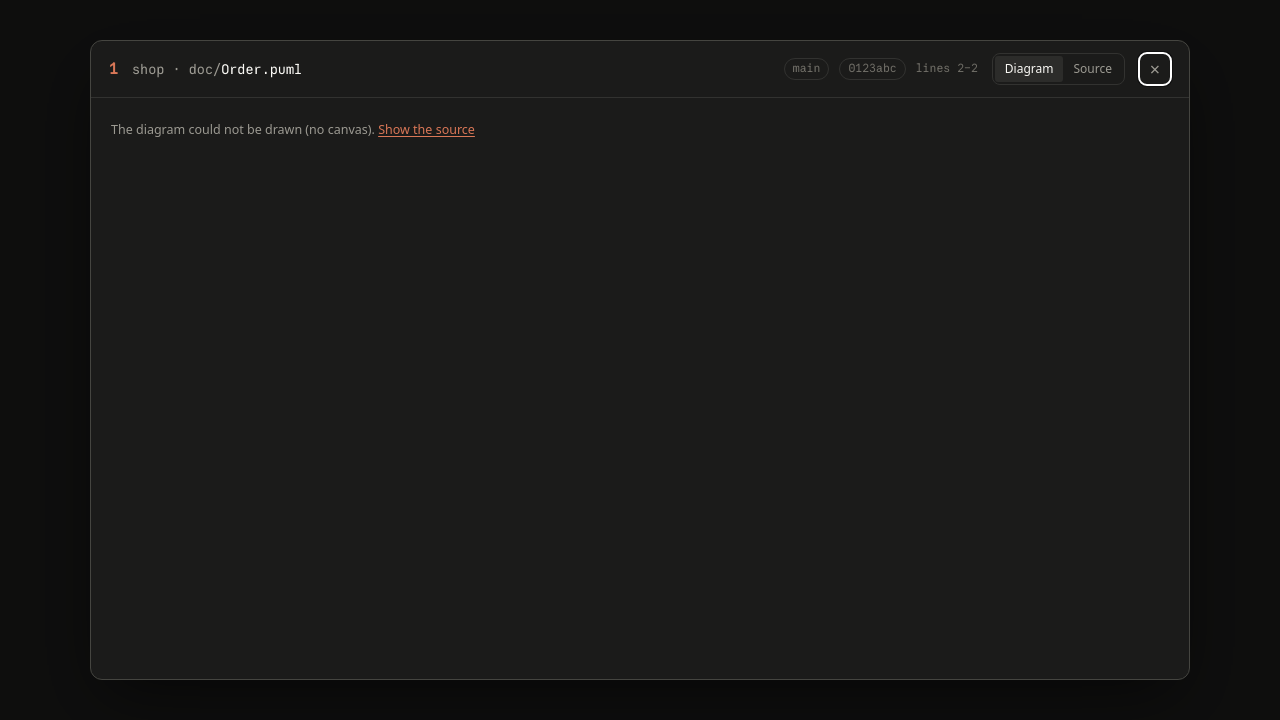
Test: SourceView on a PlantUML file › offers the source when the engine fails
The image size is (1280, 720).
expect the message shows "no canvas": met, box [309,121,368,138]
Click the button "Show the source". click: (426, 130)
box: [378,120,475,139]
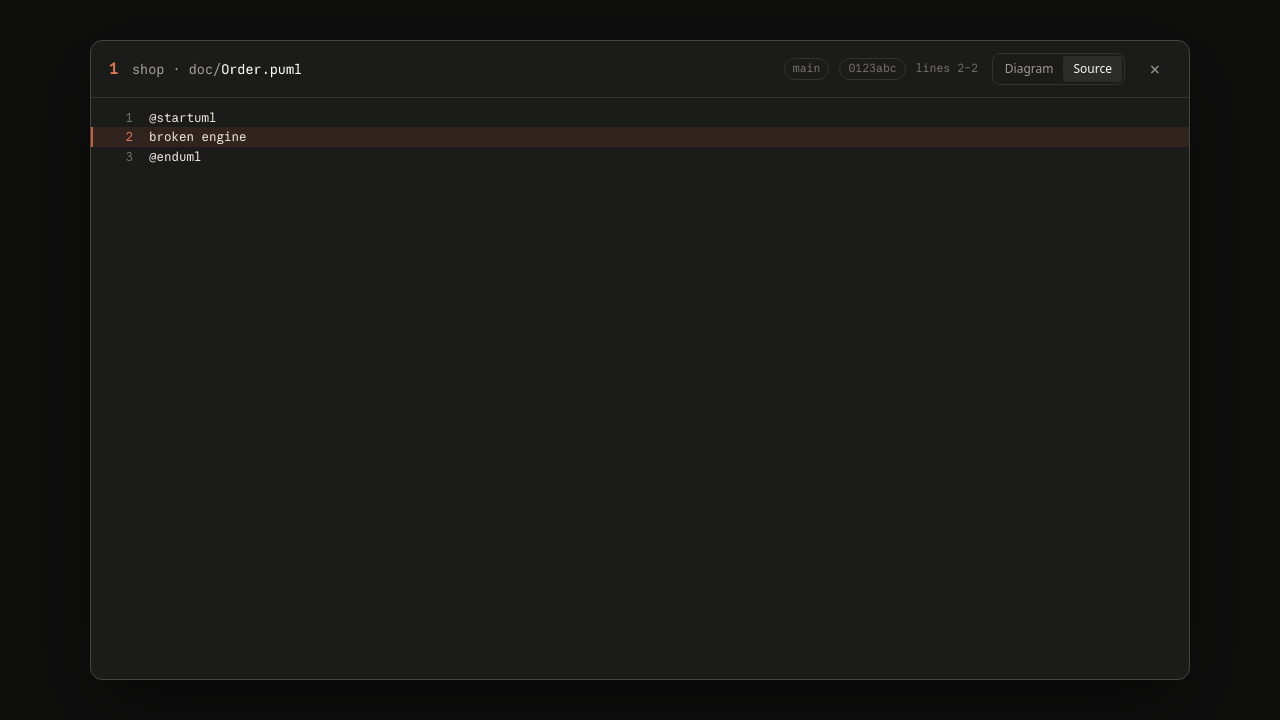
expect the element showing "2 broken engine" is shown: met, box [91,127,1189,147]
